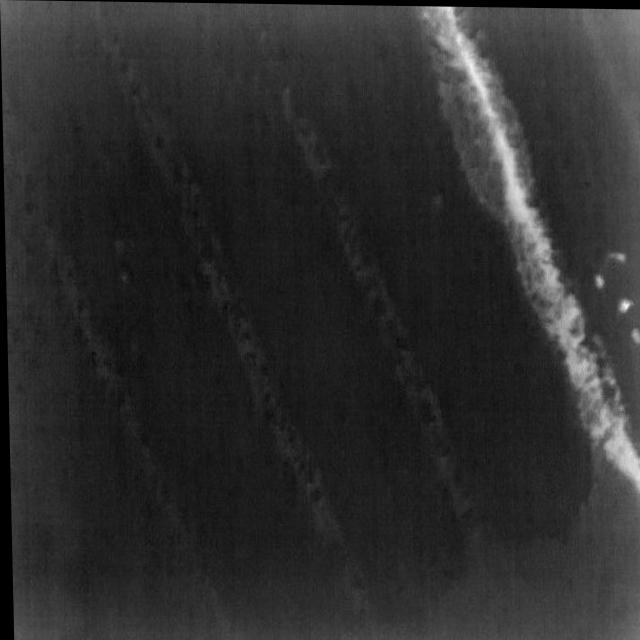deer: (616, 294, 634, 313), (604, 248, 626, 261), (629, 325, 640, 346), (593, 272, 605, 287)
